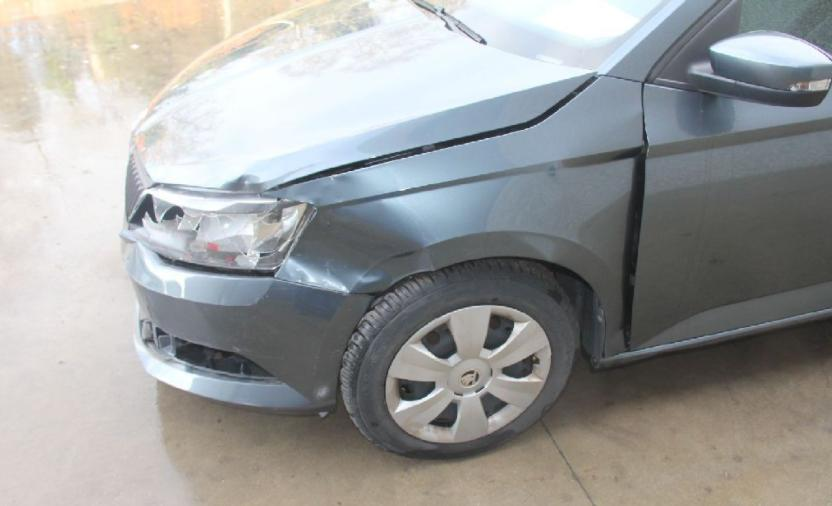Fender: (268, 76, 644, 359)
Front-bumper: (121, 236, 371, 414)
Front-door: (631, 0, 831, 346)
Front-wheel: (339, 261, 578, 457)
Front-window: (739, 3, 831, 55)
Grille: (126, 140, 152, 219)
Headlight: (125, 185, 310, 277)
Hood: (132, 0, 593, 194)
Mirror: (652, 2, 830, 107)
Rocker-panel: (596, 309, 829, 371)
Windshield: (410, 0, 663, 73)
